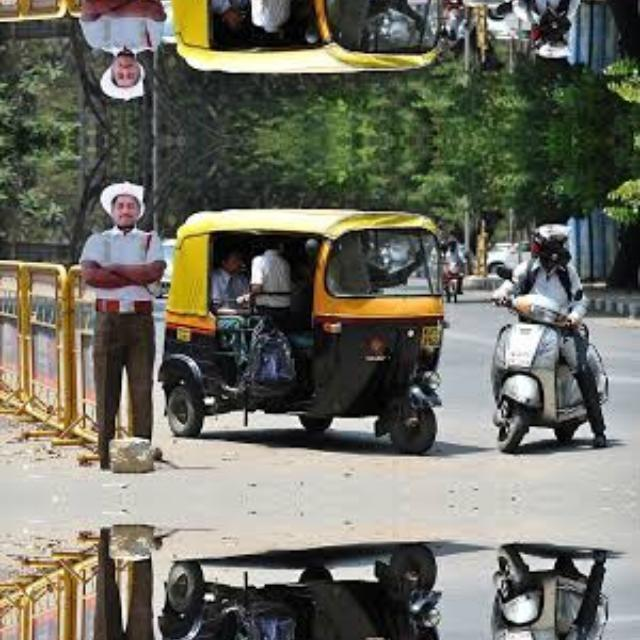obstacle: (165, 172, 457, 452), (165, 0, 457, 107), (165, 545, 457, 640)
